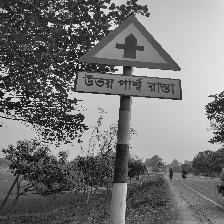Crossroad: (72, 6, 191, 109)
